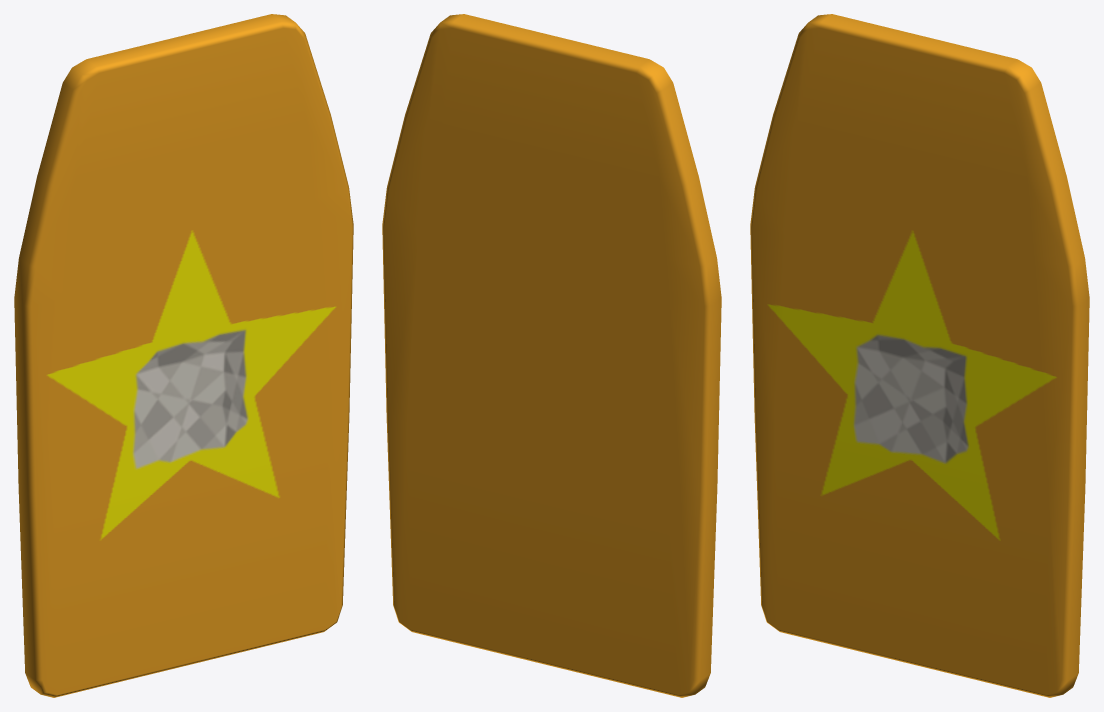
File: Schild_01.fbx
3 renders of one model, left to right at view 1: azimuth 30°, elevation 25°; view 2: azimuth 150°, elevation 25°; view 3: azimuth 330°, elevation 25°, orthographic.
Parts seen in each view (by area): view 1: Schild; view 2: Schild; view 3: Schild.
Part boxes in pixels (x1,y1,x2,y2): Schild: [14, 14, 353, 697]; Schild: [382, 14, 721, 697]; Schild: [750, 14, 1089, 697].
Size of the model in its own units: 1 by 1.8 by 0.0808.
